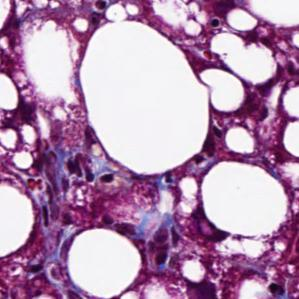inflammation: (148, 221, 187, 272), (62, 153, 117, 188)
